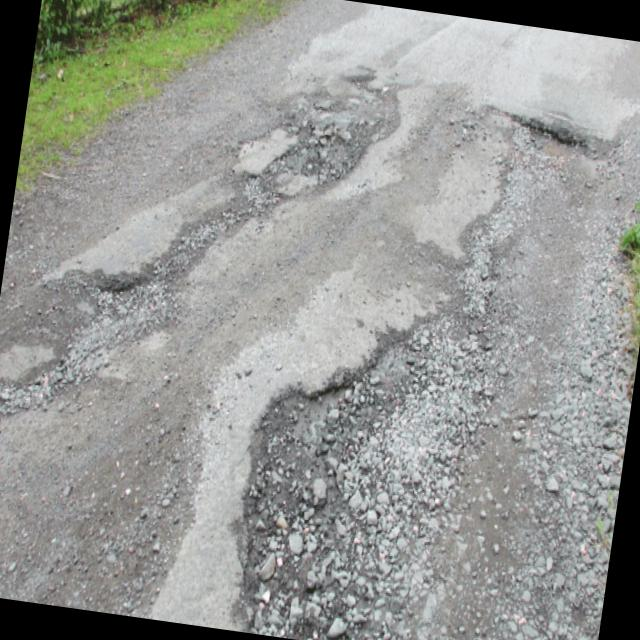Potholes: (206, 184, 637, 640), (0, 186, 182, 446), (240, 68, 420, 220), (492, 65, 604, 214)
